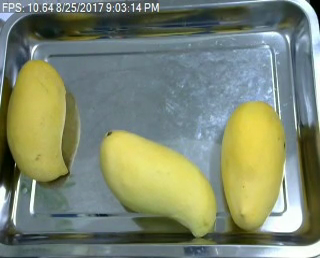Mango: (95, 127, 217, 241), (219, 100, 285, 232), (7, 58, 71, 183)
